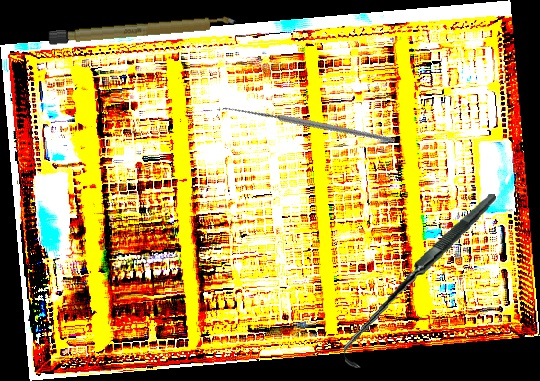Hook Surgical: (329, 193, 512, 370), (215, 39, 397, 215)
Scalpel Handle: (46, 14, 239, 46)
